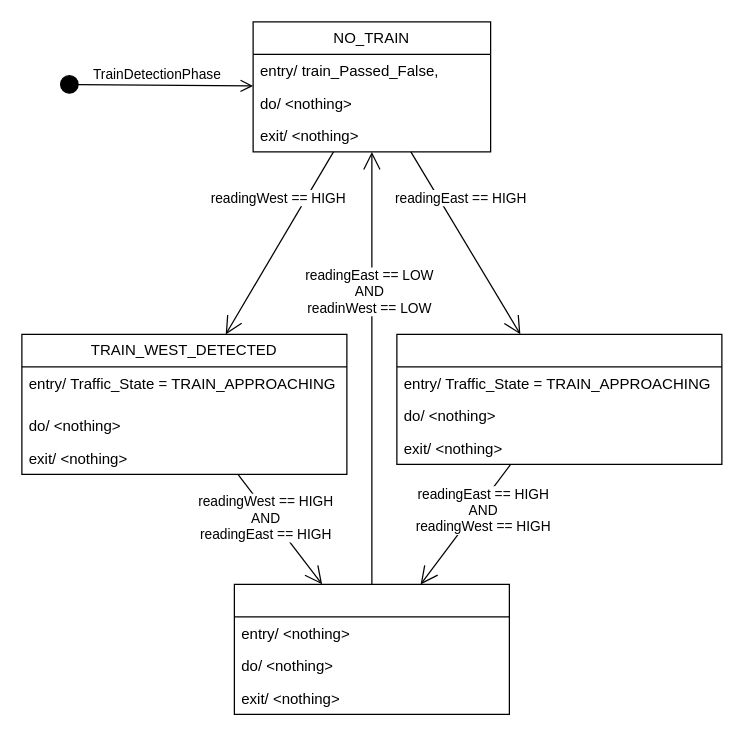
Image size: 744x740. Some labels were removed from this diagram. Here are the shapes that lost their labels. From the top down, the box of each, then its label:
(396, 333, 722, 464): TRAIN_EAST_DETECTED
(233, 583, 509, 714): TRAIN_PASSED_DETECTION
